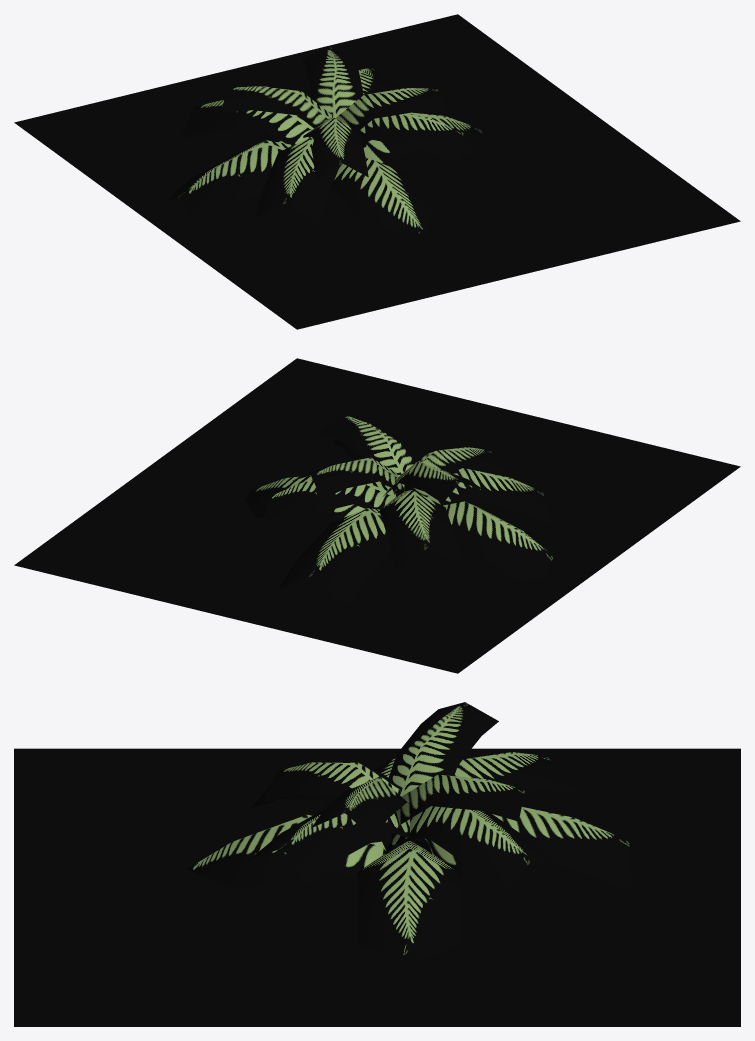
File: SM_Env_BushGreen2.fbx
The picture shows the model from 3 angles, top to bottom: view 1: azimuth 30°, elevation 25°; view 2: azimuth 150°, elevation 25°; view 3: azimuth 270°, elevation 25°; orthographic projection. The views are drawn at different scales.
Parts seen in each view (by area): view 1: SM_Env_BushGreen2; view 2: SM_Env_BushGreen2; view 3: SM_Env_BushGreen2.
Boxes of the visible parts, bbox=[...] form: SM_Env_BushGreen2: bbox=[14, 14, 740, 329]; SM_Env_BushGreen2: bbox=[14, 358, 740, 673]; SM_Env_BushGreen2: bbox=[14, 702, 740, 1026].
Size of the model in its own units: 211 by 54.09 by 233.
